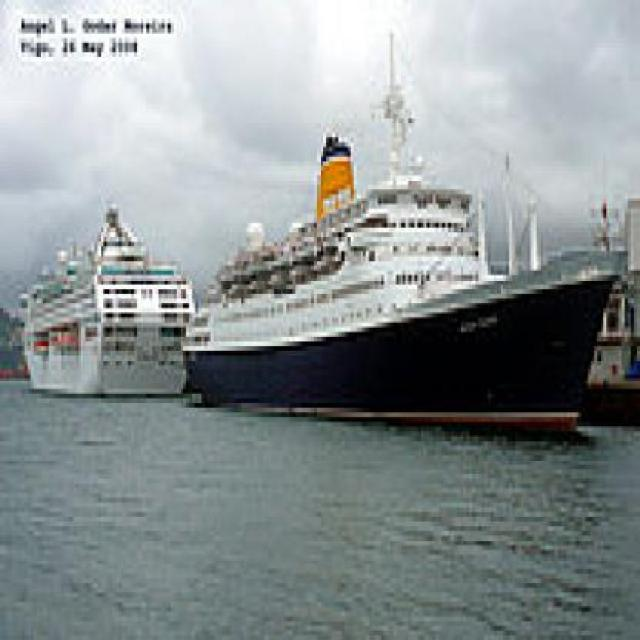cruise: (178, 153, 635, 456), (13, 196, 209, 423)
